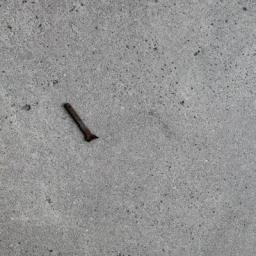FOD: (63, 99, 104, 145)
